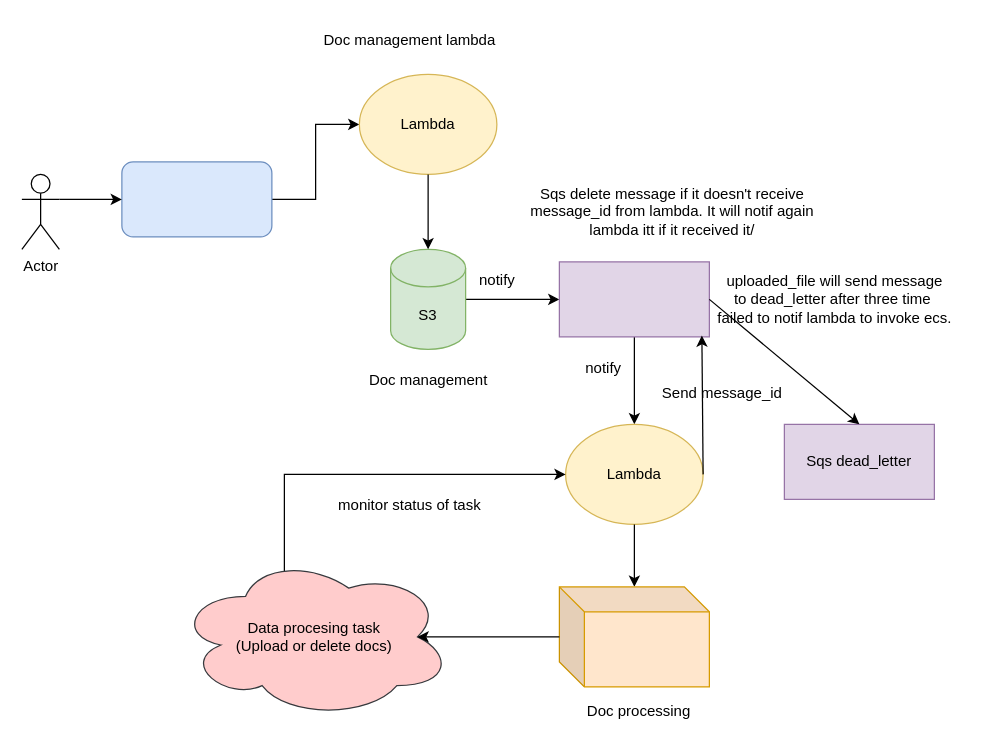
The diagram is 988 pixels wide and 751 high, and some of its shapes have lost their labels. The centre of each missing label's shape, as x and y in pixels:
"ECS" belongs at pixel 633 636.
"Front" belongs at pixel 196 199.
"Sqs uploaded_files" belongs at pixel 633 299.
